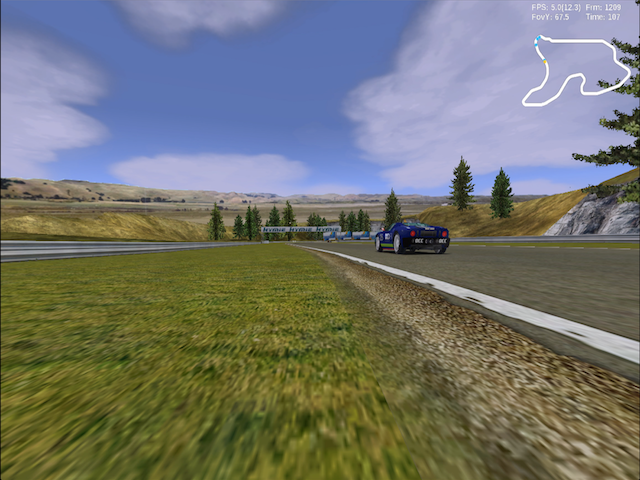FMC_GT4: (375, 222, 450, 256)
